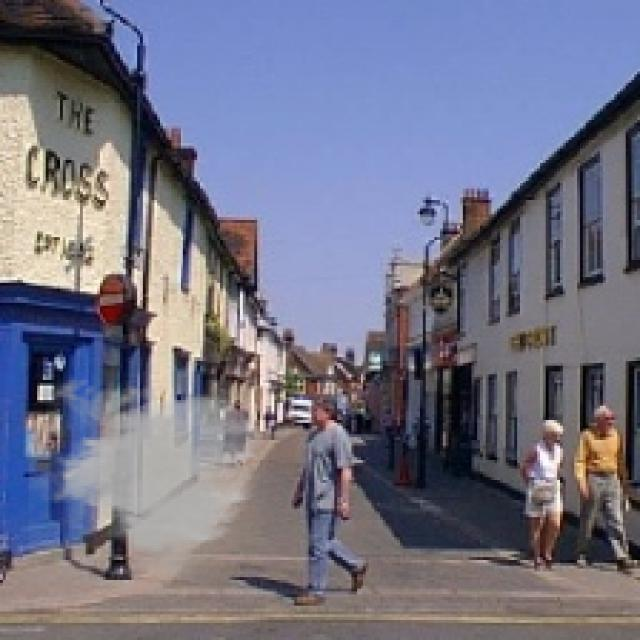smoke: (28, 371, 268, 583)
